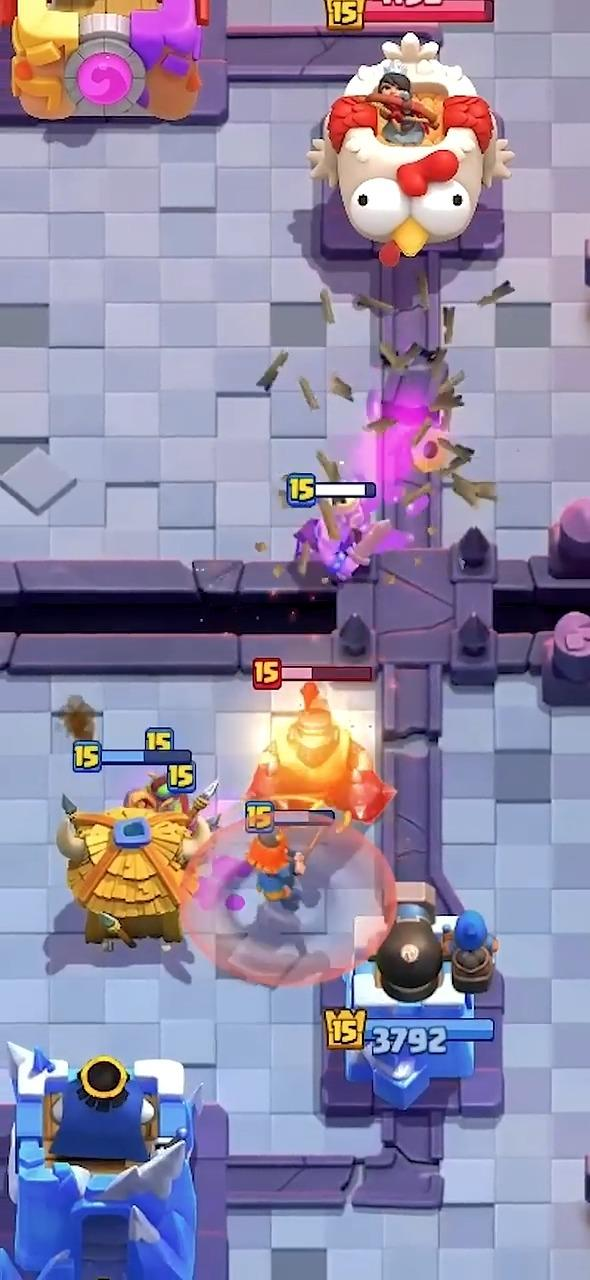barbarian: (295, 495, 393, 581)
goblin hut: (56, 784, 216, 947)
mega knight: (247, 681, 394, 824)
valkyrie: (246, 829, 305, 909)
